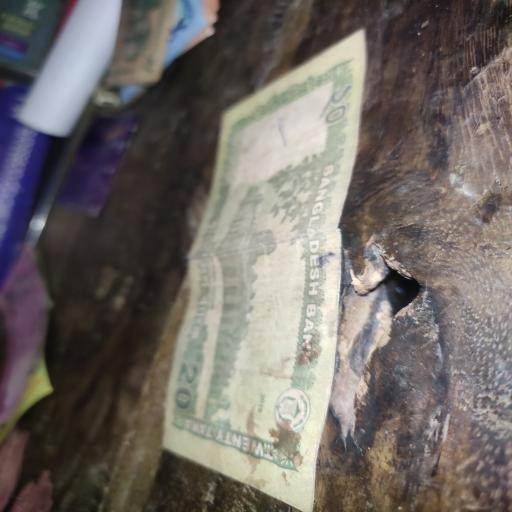20taka: (158, 32, 357, 508)
